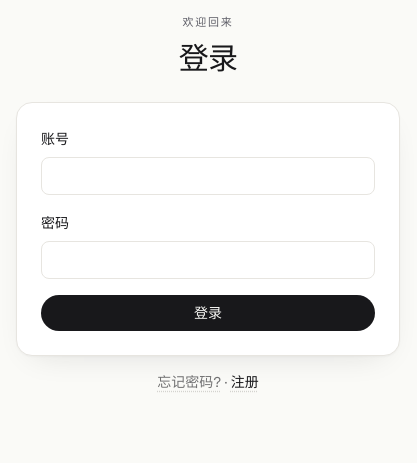
Test: LoginPage › surfaces the error message when login is rejected
Step 1. Type "a@b.c" into the field labelled "账号" → (208, 176), box [41, 156, 375, 194]
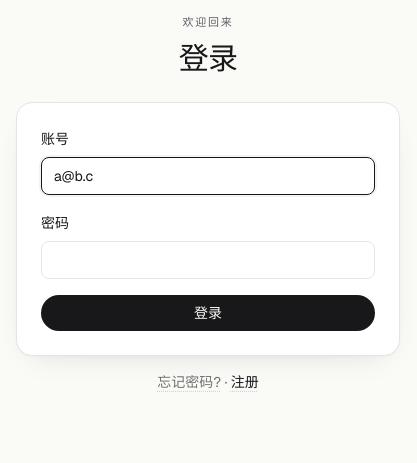
Step 2. Type "wrong" into the password field labelled "密码" → (208, 260), box [41, 240, 375, 278]
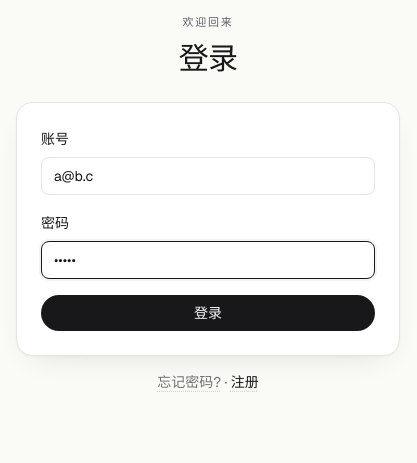
Step 3. Click the button "登录" → (208, 312), box [41, 294, 375, 330]
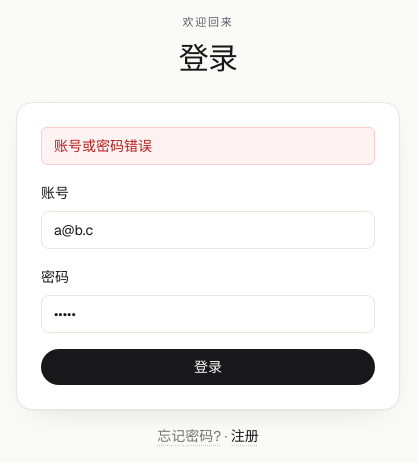
Result: the text "账号或密码错误" is shown at [41, 126, 375, 164]
